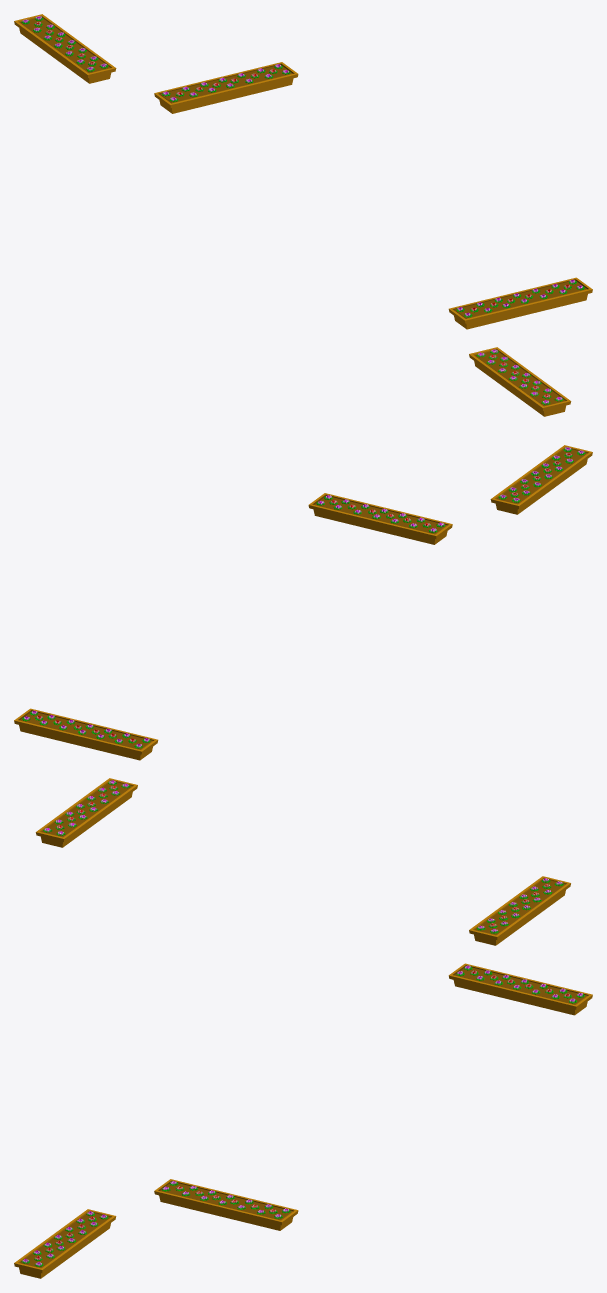
File: FlowerGardenGroup.fbx
3 renders of one model, top to bottom at view 1: azimuth 30°, elevation 25°; view 2: azimuth 150°, elevation 25°; view 3: azimuth 330°, elevation 25°, orthographic.
Parts seen in each view (by area): view 1: FlowerPotE1, FlowerPotE3, FlowerPotE4, FlowerPotE2; view 2: FlowerPotE3, FlowerPotE1, FlowerPotE2, FlowerPotE4; view 3: FlowerPotE1, FlowerPotE3, FlowerPotE2, FlowerPotE4.
Boxes of the visible parts, <box> form: FlowerPotE1: <box>448,277,592,329</box>; FlowerPotE3: <box>154,62,298,113</box>; FlowerPotE4: <box>14,14,116,83</box>; FlowerPotE2: <box>469,347,571,416</box>; FlowerPotE3: <box>14,708,158,760</box>; FlowerPotE1: <box>308,493,452,544</box>; FlowerPotE2: <box>490,445,592,514</box>; FlowerPotE4: <box>35,778,137,847</box>; FlowerPotE1: <box>154,1179,298,1230</box>; FlowerPotE3: <box>448,963,592,1015</box>; FlowerPotE2: <box>14,1209,116,1278</box>; FlowerPotE4: <box>469,876,570,945</box>.
Bounding box in the file's own units: 1441 × 123 × 8292.
